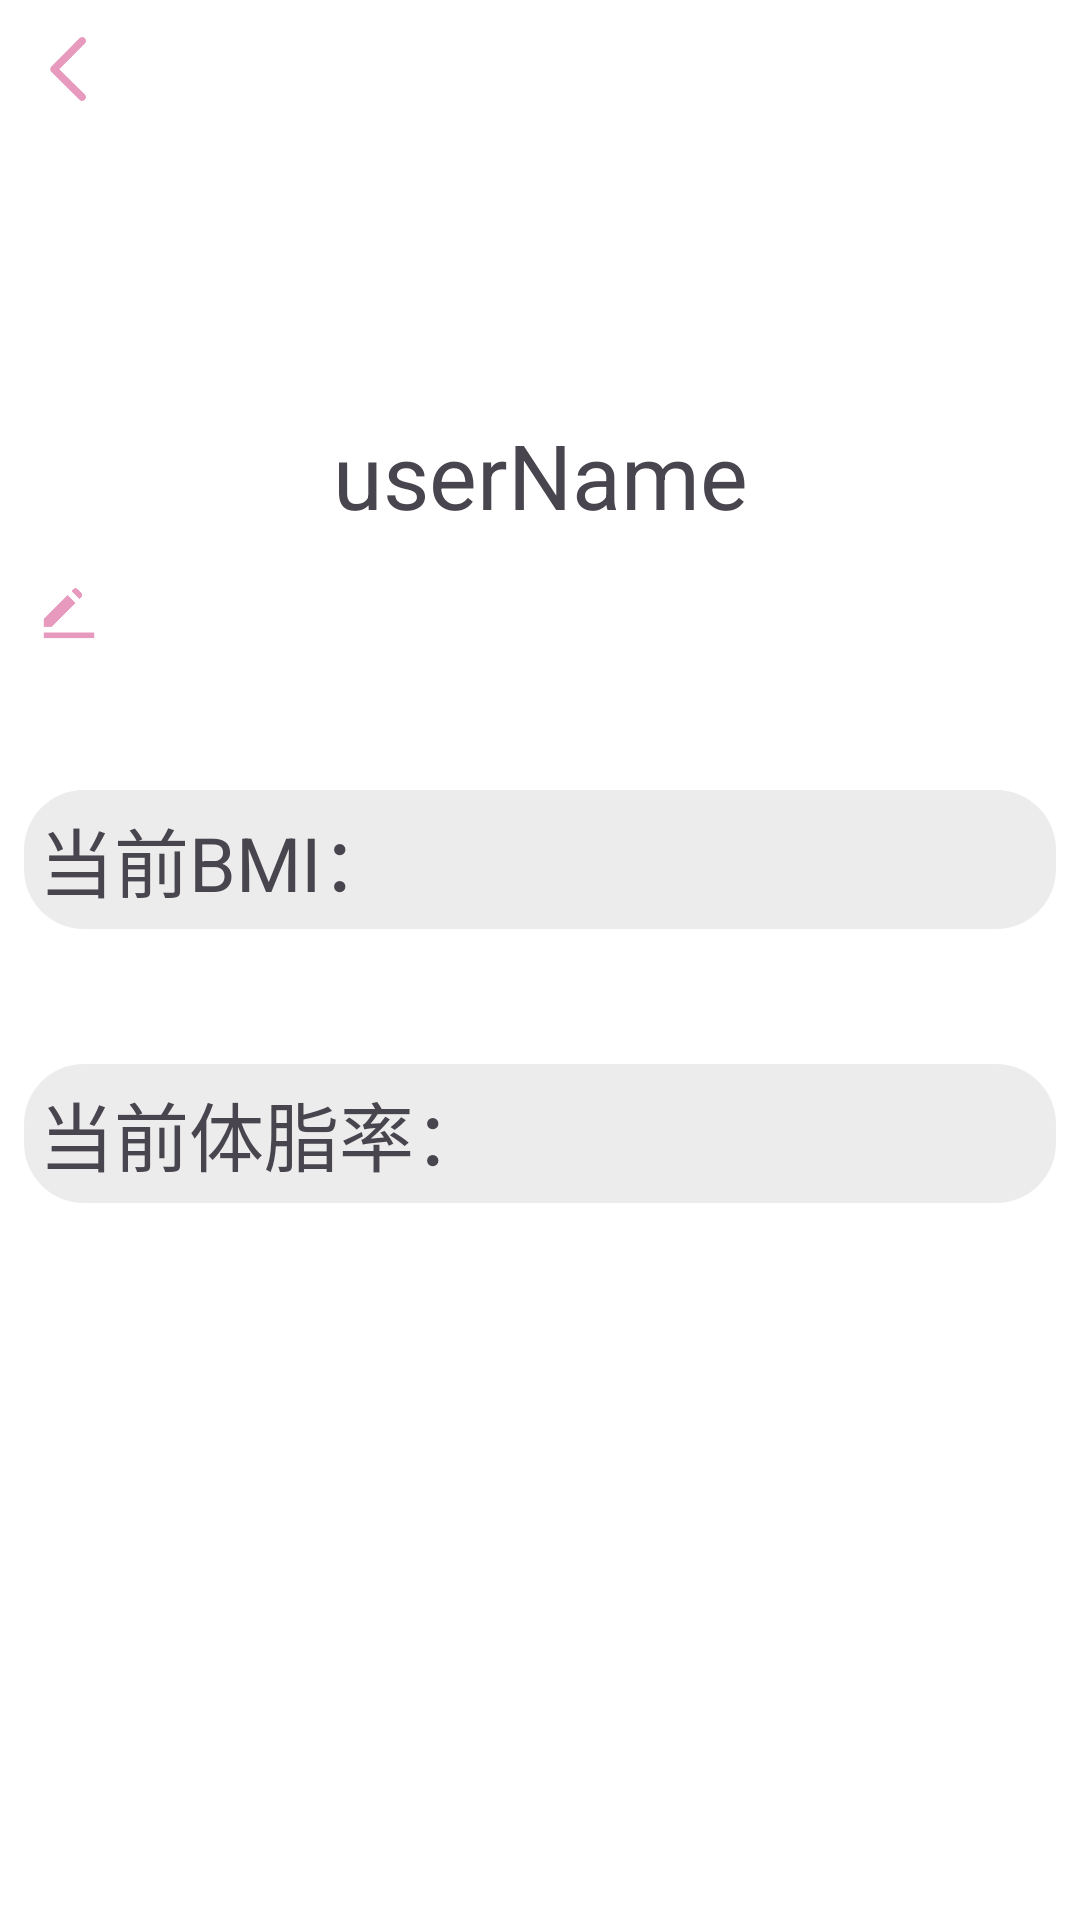

Icon bounding boxes for this 1080px x 1920px phone screenshot, format (x1, y1, x2, y2):
back: (50, 37, 86, 101)
edit: (44, 588, 94, 638)
